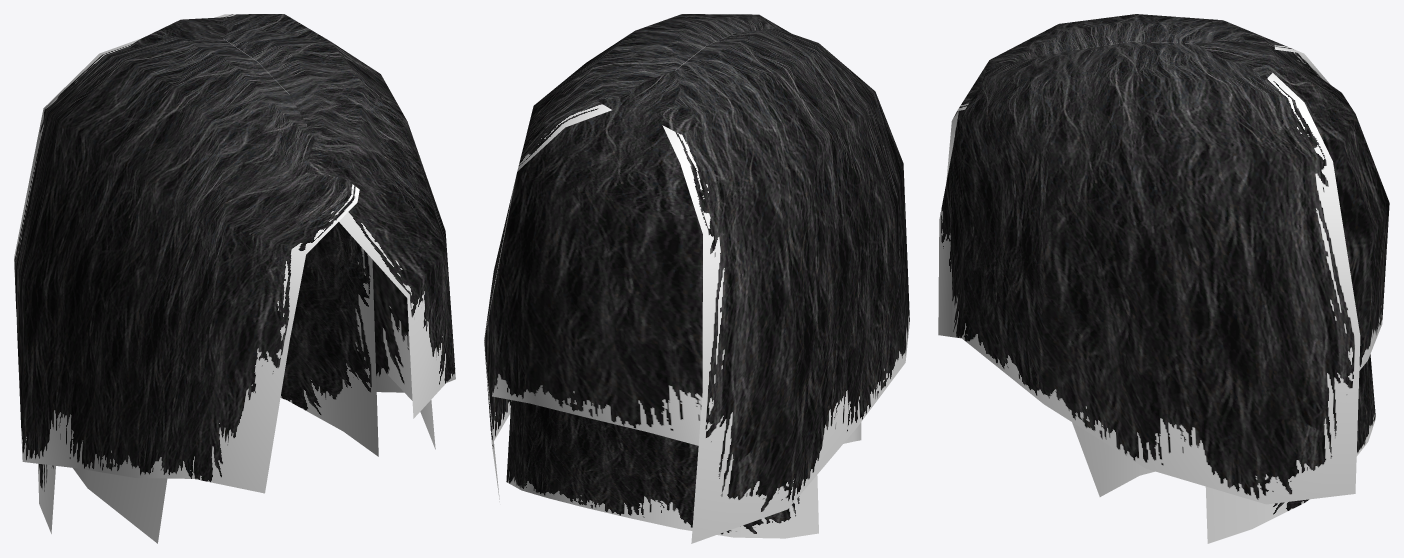
File: Hair_02.fbx
3 renders of one model, left to right at view 1: azimuth 30°, elevation 25°; view 2: azimuth 150°, elevation 25°; view 3: azimuth 270°, elevation 25°, orthographic. The views are drawn at different scales.
Visible parts, largest first — view 1: Hair_02; view 2: Hair_02; view 3: Hair_02.
Boxes of the visible parts, x1,y1,x2,y2 form: Hair_02: (14, 14, 455, 543); Hair_02: (484, 14, 909, 543); Hair_02: (938, 14, 1389, 543).
Bounding box in the file's own units: 19.59 × 25.75 × 24.13.
